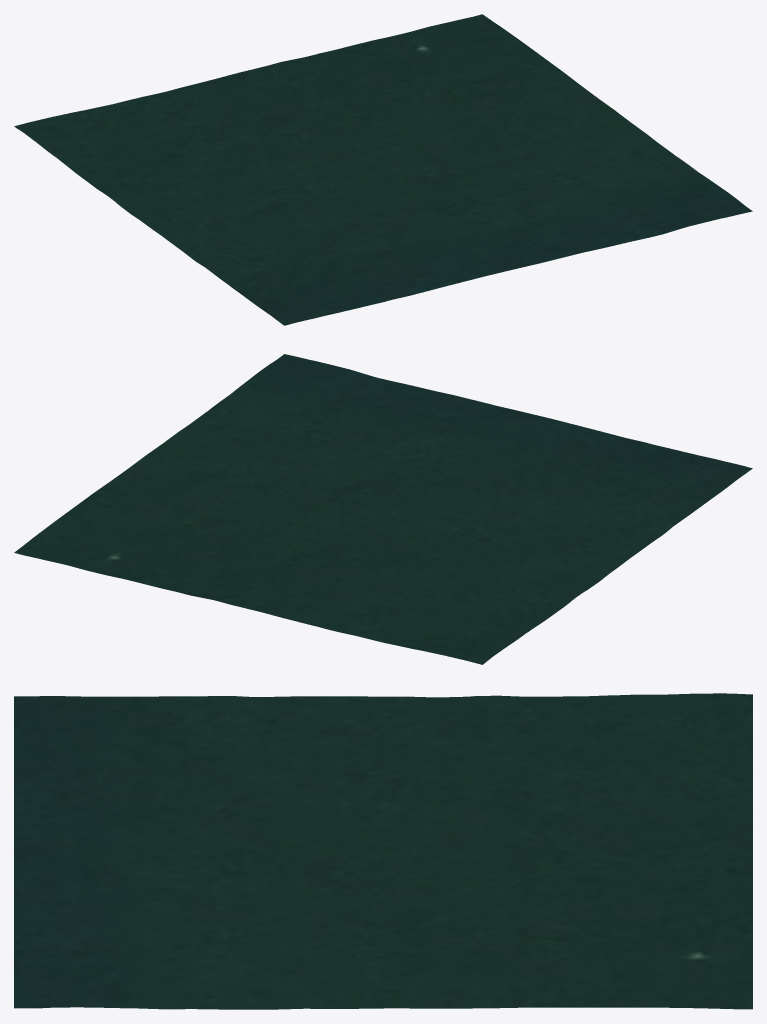
3 views of the same model, one above another, from view 1: azimuth 30°, elevation 25°; view 2: azimuth 150°, elevation 25°; view 3: azimuth 270°, elevation 25° (orthographic). The views are drawn at different scales.
Size of the model in its own units: 104 by 0.7571 by 104.
Materials: 2 (2 with a texture image).
